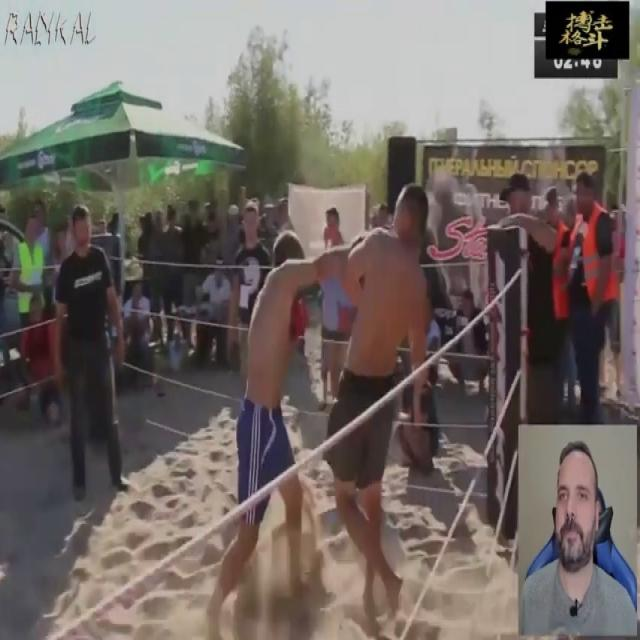fight: (204, 157, 452, 639)
non-fight: (51, 197, 132, 511), (516, 437, 637, 639), (496, 166, 562, 421), (562, 169, 618, 417), (0, 166, 47, 422), (312, 206, 360, 410), (222, 198, 270, 370), (137, 209, 174, 346), (192, 254, 232, 366), (160, 201, 187, 342)
